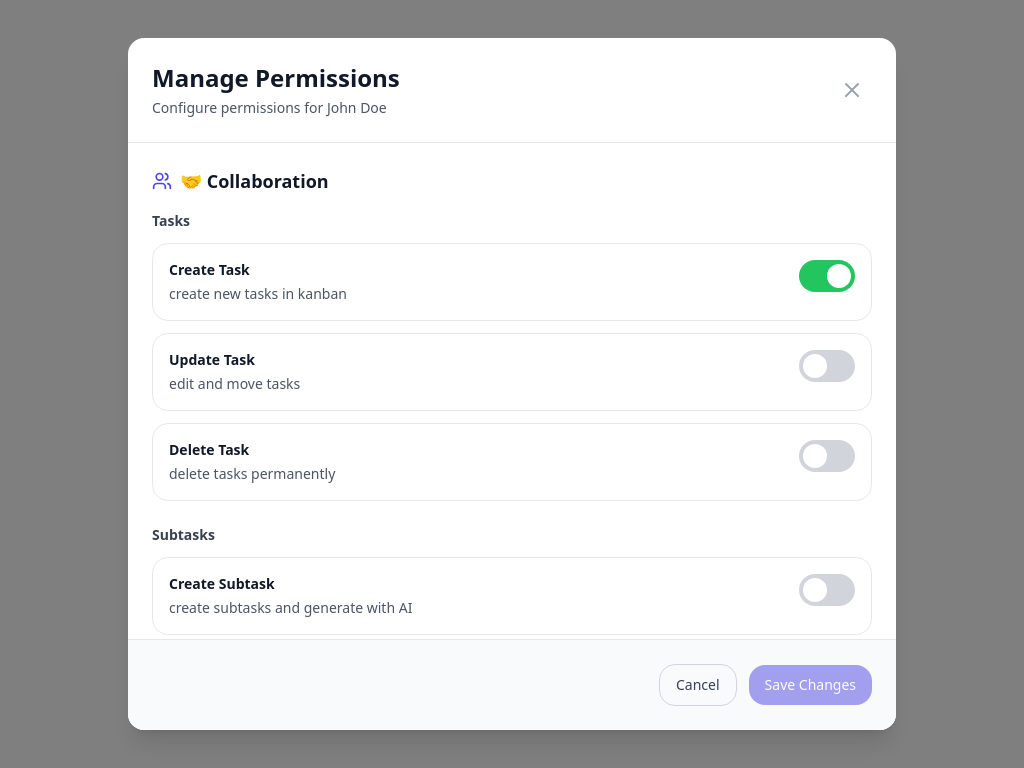
PermissionManagementModal › displays loading state when saving
Click the switch named "Toggle Update Task permission": (827, 366) [799, 350, 855, 382]
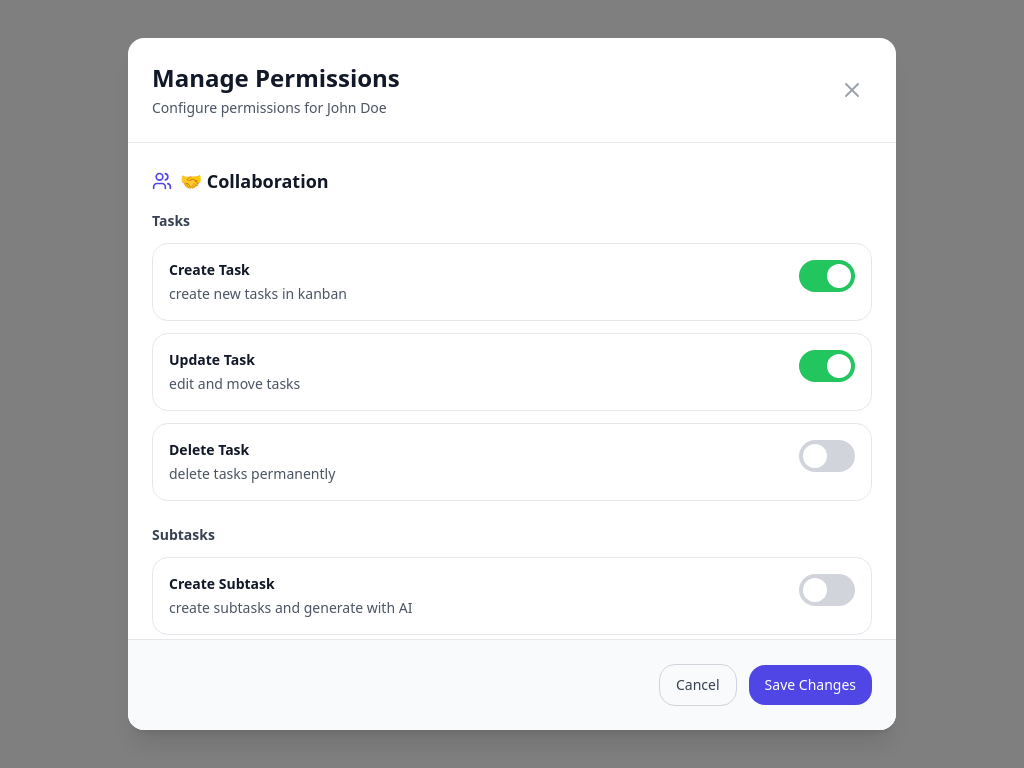
Click the button "Save Changes": (810, 685) [749, 665, 872, 705]
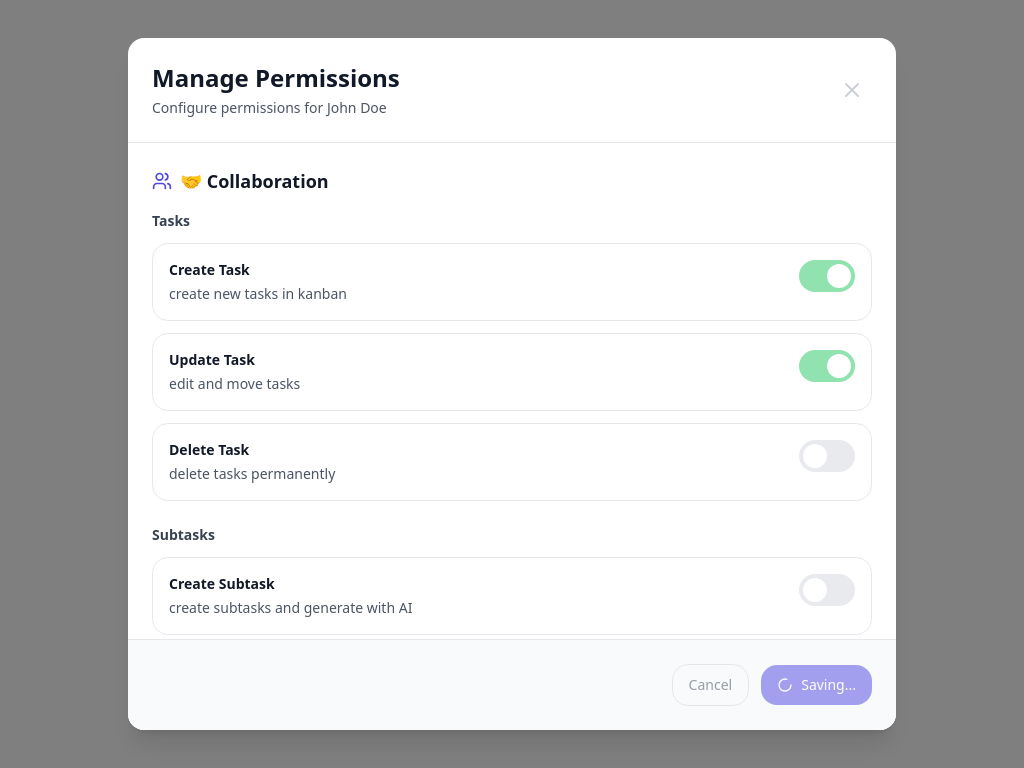
Check: the button "Saving..." is shown, box [761, 665, 872, 705]
